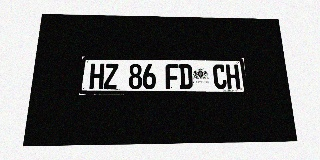6: (142, 64, 156, 89)
8: (128, 64, 142, 89)
C: (212, 64, 227, 89)
D: (179, 64, 193, 89)
F: (165, 64, 179, 89)
H: (89, 63, 104, 89), (225, 64, 240, 89)
Z: (103, 64, 118, 89)
